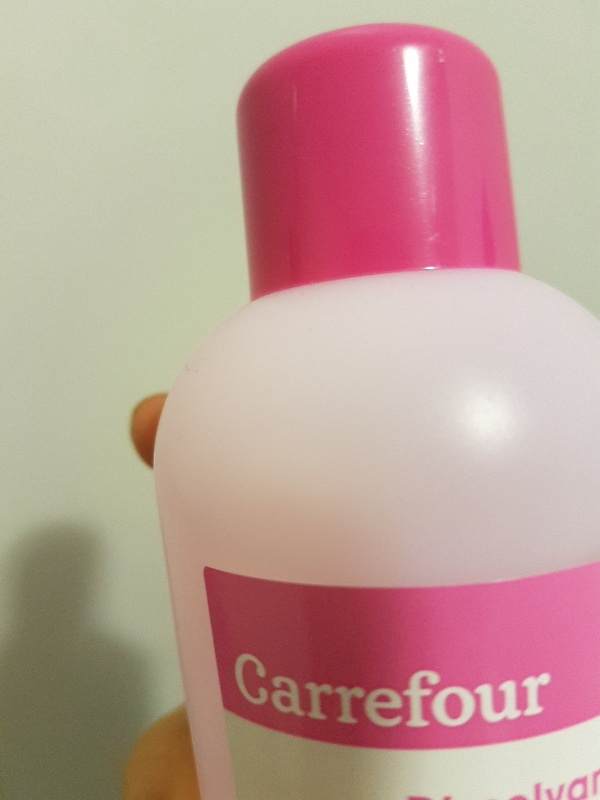text: (241, 652, 256, 738), (257, 652, 272, 738), (273, 652, 288, 738), (289, 652, 304, 738), (305, 652, 320, 738), (321, 652, 336, 738), (337, 652, 352, 738), (353, 652, 368, 738), (369, 652, 384, 738), (385, 652, 400, 738), (401, 652, 416, 738), (417, 652, 432, 738), (433, 652, 448, 738), (449, 652, 464, 738), (465, 652, 480, 738), (481, 652, 496, 738), (497, 652, 512, 738), (513, 652, 528, 738), (529, 652, 544, 738), (545, 652, 560, 738), (233, 652, 240, 738), (545, 768, 560, 800), (561, 768, 576, 800), (577, 768, 592, 800), (593, 768, 600, 800)
